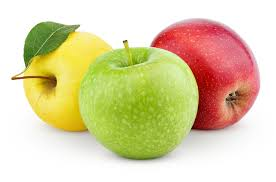apple: (154, 19, 264, 134), (85, 49, 198, 157), (26, 30, 118, 130)
